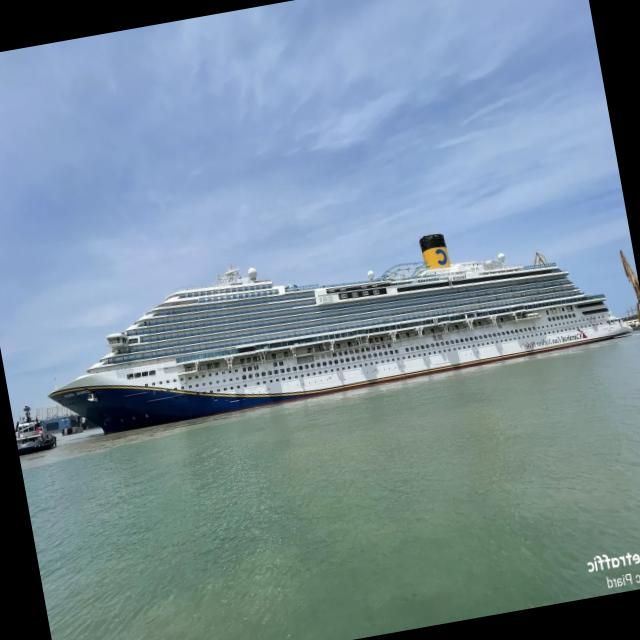Cruise: (49, 233, 631, 432)
Tug: (15, 406, 56, 454)
